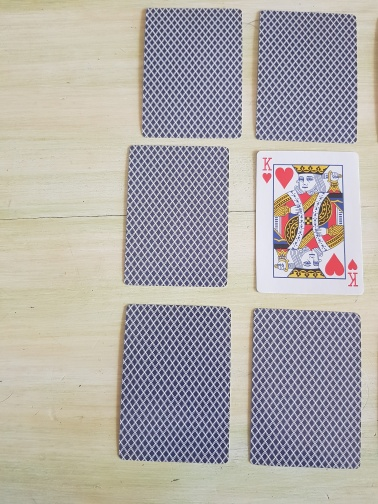king: (255, 150, 364, 296)
